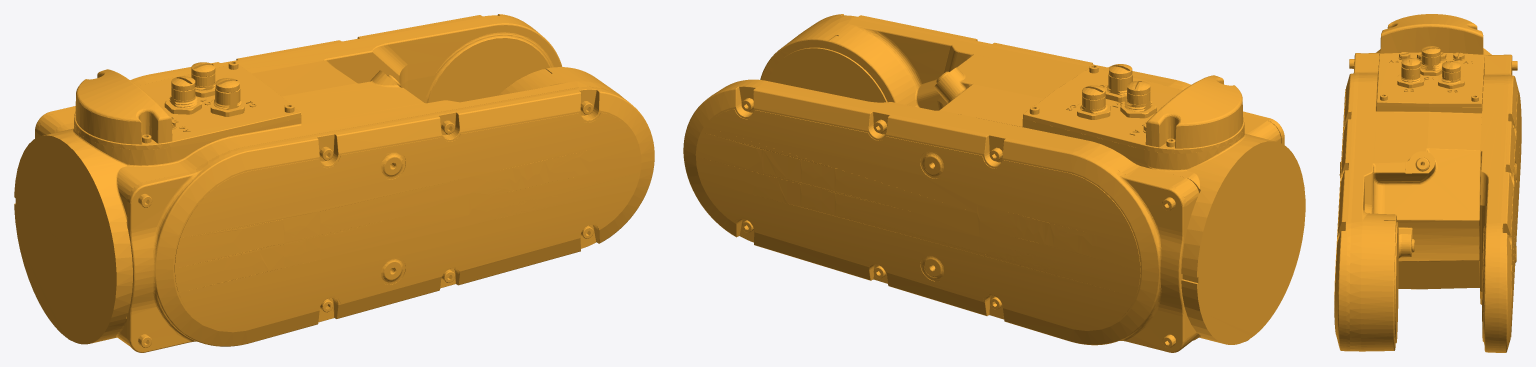
File: ABBIRB1300Link4.dae
3 views of the same model, side by side, from view 1: azimuth 30°, elevation 25°; view 2: azimuth 150°, elevation 25°; view 3: azimuth 270°, elevation 25° (orthographic). The views are drawn at different scales.
Parts seen in each view (by area): view 1: node_8e8fe76f_21ed_46f0_ad11_90b76843ba23_mesh0; view 2: node_8e8fe76f_21ed_46f0_ad11_90b76843ba23_mesh0; view 3: node_8e8fe76f_21ed_46f0_ad11_90b76843ba23_mesh0.
Part boxes in pixels (x1,y1,x2,y2): node_8e8fe76f_21ed_46f0_ad11_90b76843ba23_mesh0: [14, 14, 654, 352]; node_8e8fe76f_21ed_46f0_ad11_90b76843ba23_mesh0: [683, 14, 1305, 352]; node_8e8fe76f_21ed_46f0_ad11_90b76843ba23_mesh0: [1334, 14, 1521, 352].
Bounding box in the file's own units: 0.3476 × 0.1344 × 0.1511.
